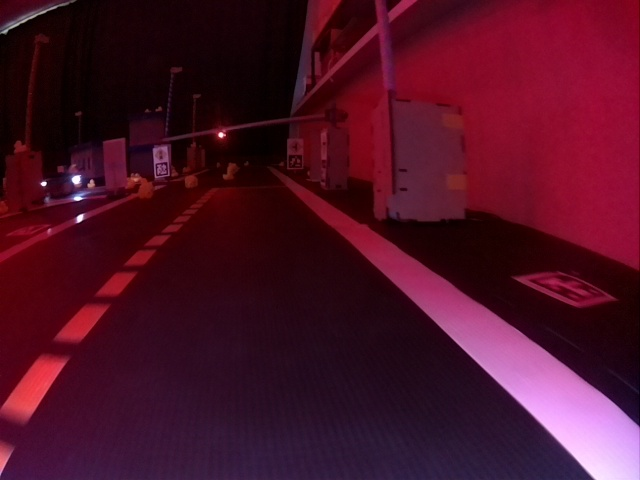Duckie: (140, 183, 153, 197), (185, 176, 198, 187), (86, 179, 96, 188), (226, 170, 234, 177)
Intersection sign: (289, 140, 301, 153)
QR code: (513, 269, 617, 308), (289, 155, 302, 168), (156, 163, 168, 175)
Signal sign: (155, 149, 166, 157)
